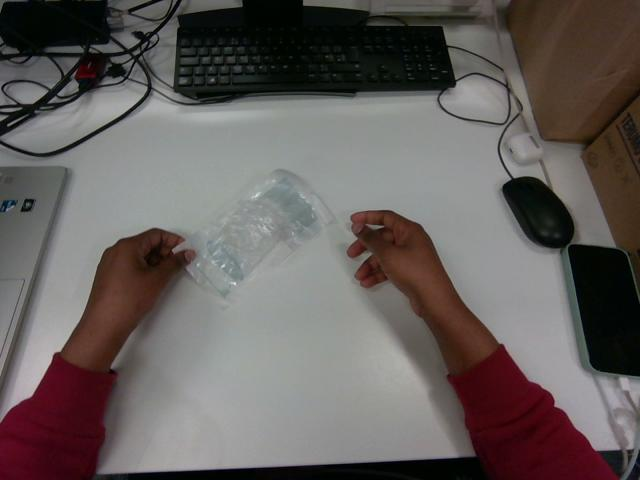gallipot: (174, 169, 332, 300)
